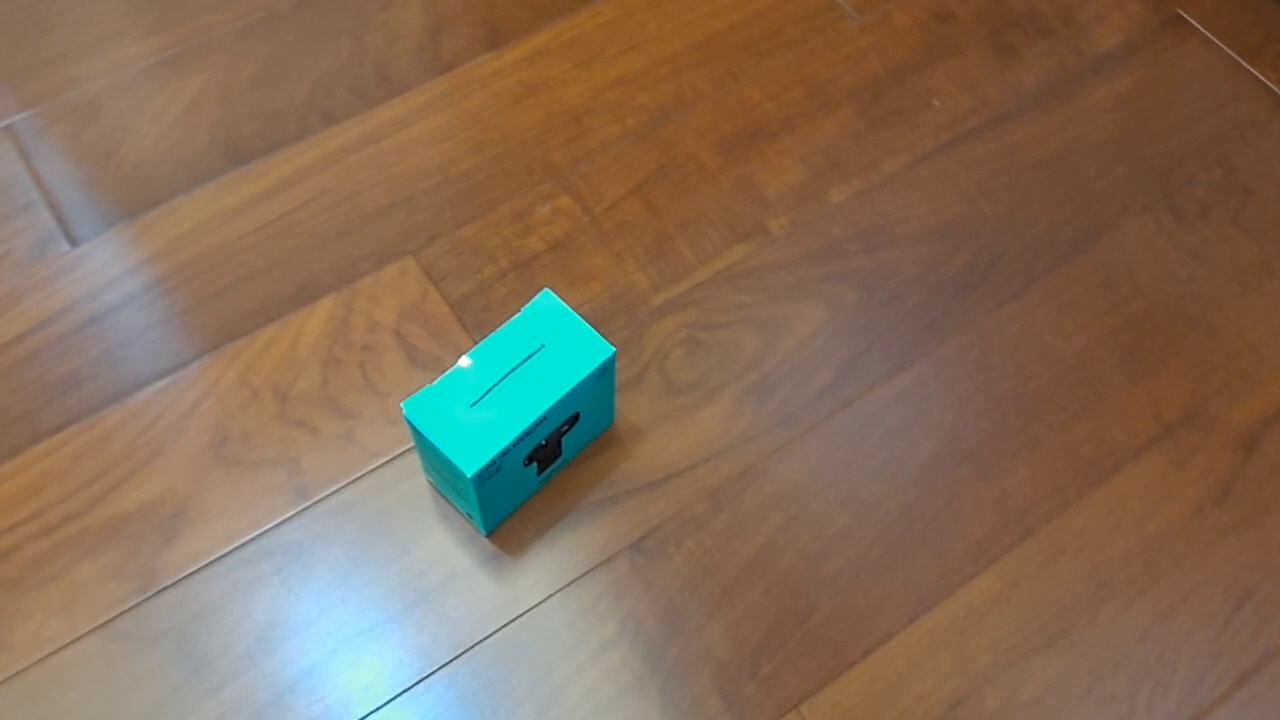webcam: (399, 285, 618, 538)
